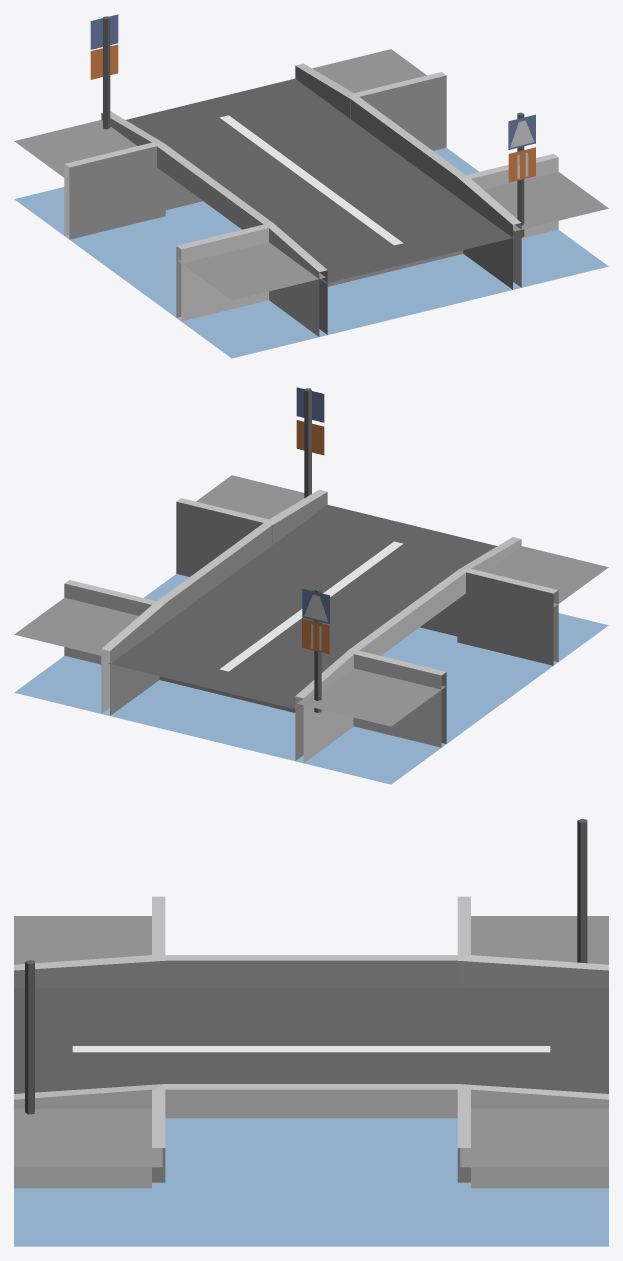
Rendered from road_tile_bridge_1x1_001.glb.
The picture shows the model from 3 angles, top to bottom: view 1: azimuth 30°, elevation 25°; view 2: azimuth 150°, elevation 25°; view 3: azimuth 270°, elevation 25°; orthographic projection. The views are drawn at different scales.
Visible parts, largest first — view 1: road_tile_bridge_1x1_001; view 2: road_tile_bridge_1x1_001; view 3: road_tile_bridge_1x1_001.
Boxes of the visible parts, x1,y1,x2,y2 form: road_tile_bridge_1x1_001: (14, 14, 608, 358); road_tile_bridge_1x1_001: (14, 387, 608, 784); road_tile_bridge_1x1_001: (14, 818, 608, 1246).
Bounding box in the file's own units: 8 × 3.41 × 8.
Materials: 1 (1 with a texture image).
